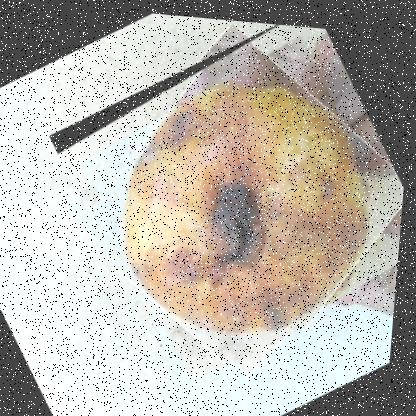guava_rotten: (33, 4, 415, 403)
